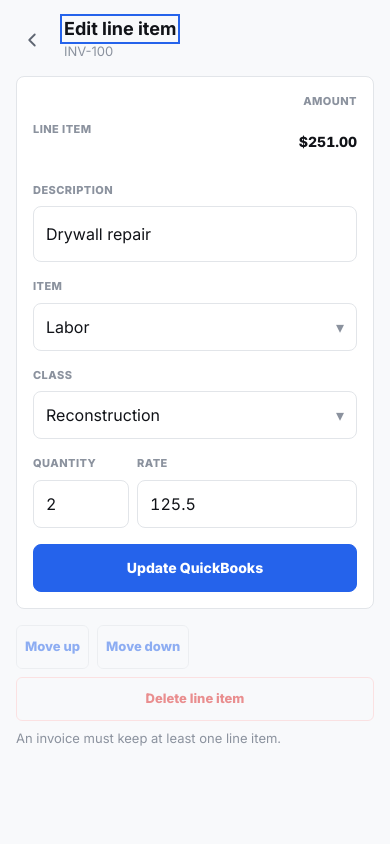
Test case: AdminInvoiceLineEdit save boundary › shows the locked boundary response from the fenced worker
Step 1. Click the button "Update QuickBooks" → (195, 568), box top-left (33, 544), bottom-right (357, 592)
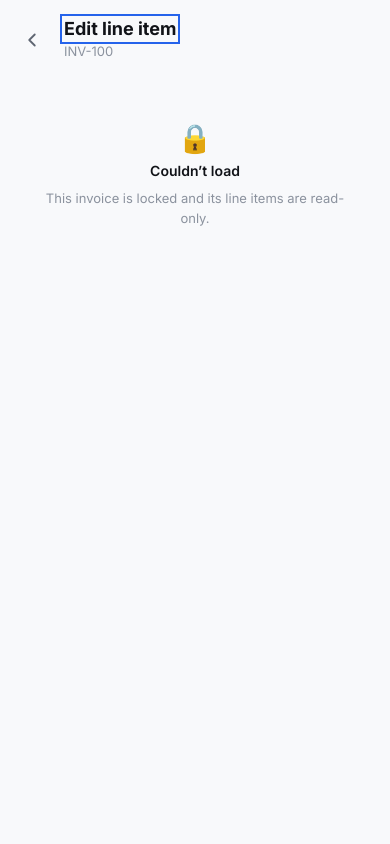
Check: the text "This invoice is locked and its line items are read-only." is shown, box top-left (40, 189), bottom-right (350, 228)
